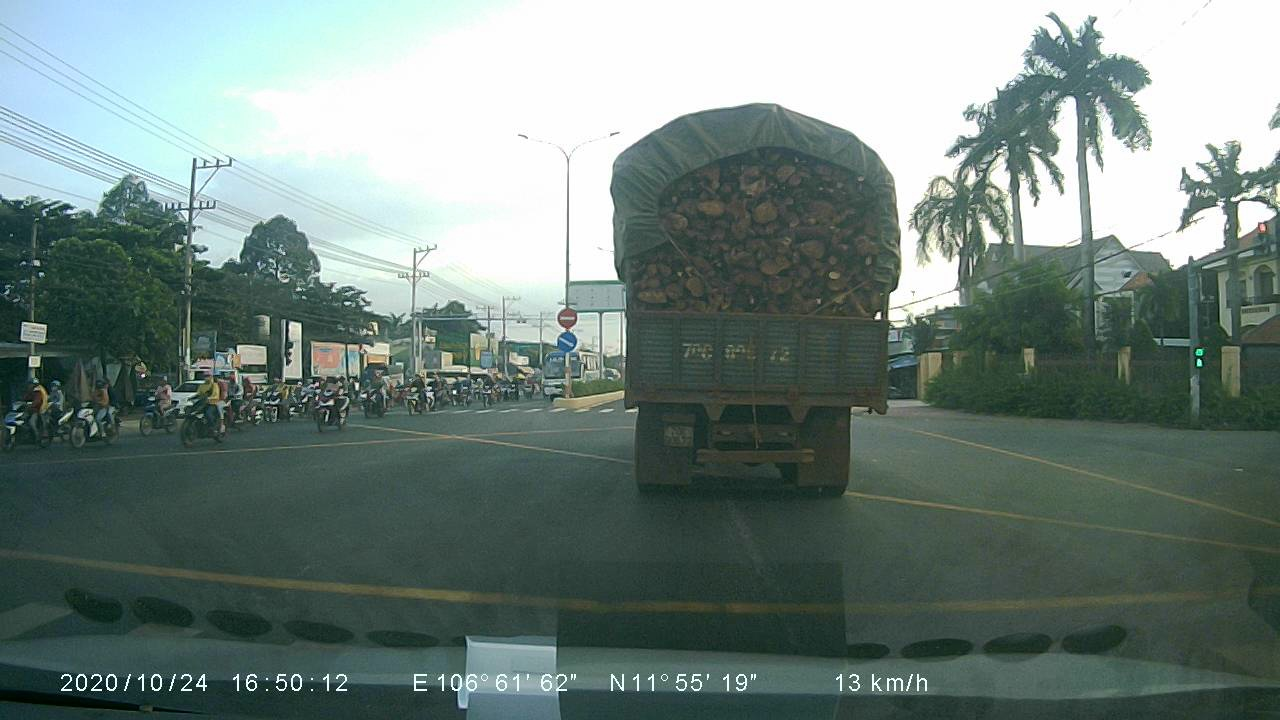Cam di nguoc chieu: (556, 307, 580, 329)
Huong di phai re phai: (557, 330, 577, 356)
